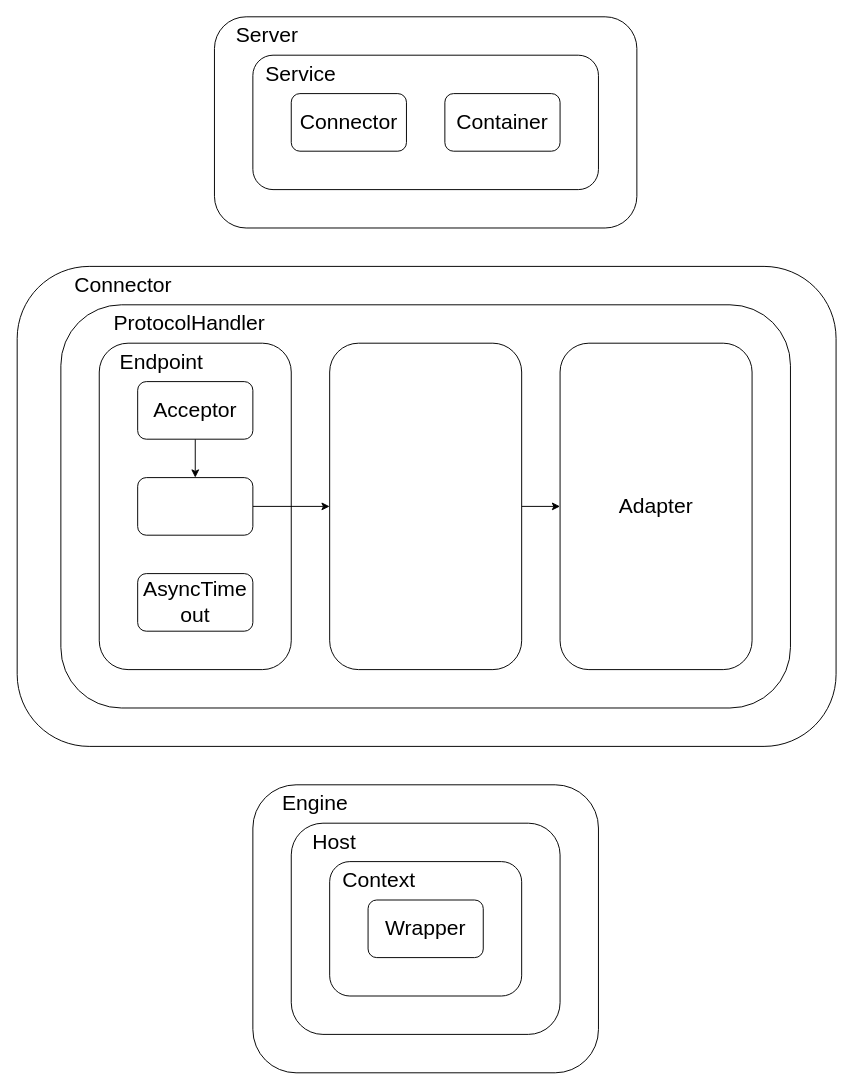
Image size: 852x1090. Some labels were removed from this diagram. The shapes that lost their labels are listed below. From the top down, each one's centre as x and y in pixels, then its label:
point (195, 506): Handler
point (425, 506): Processor
